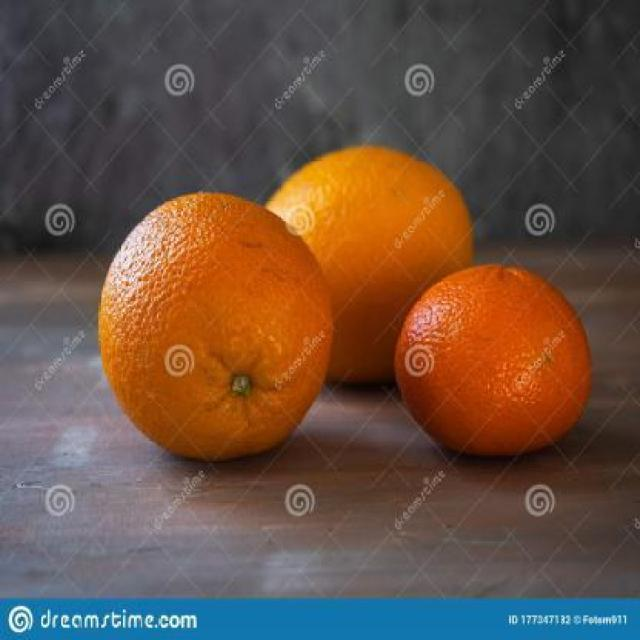Jeruk Sudah Matang: (102, 195, 336, 454), (246, 138, 477, 384), (397, 264, 591, 454)
